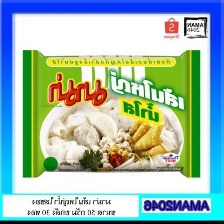snack: (17, 43, 205, 183)
